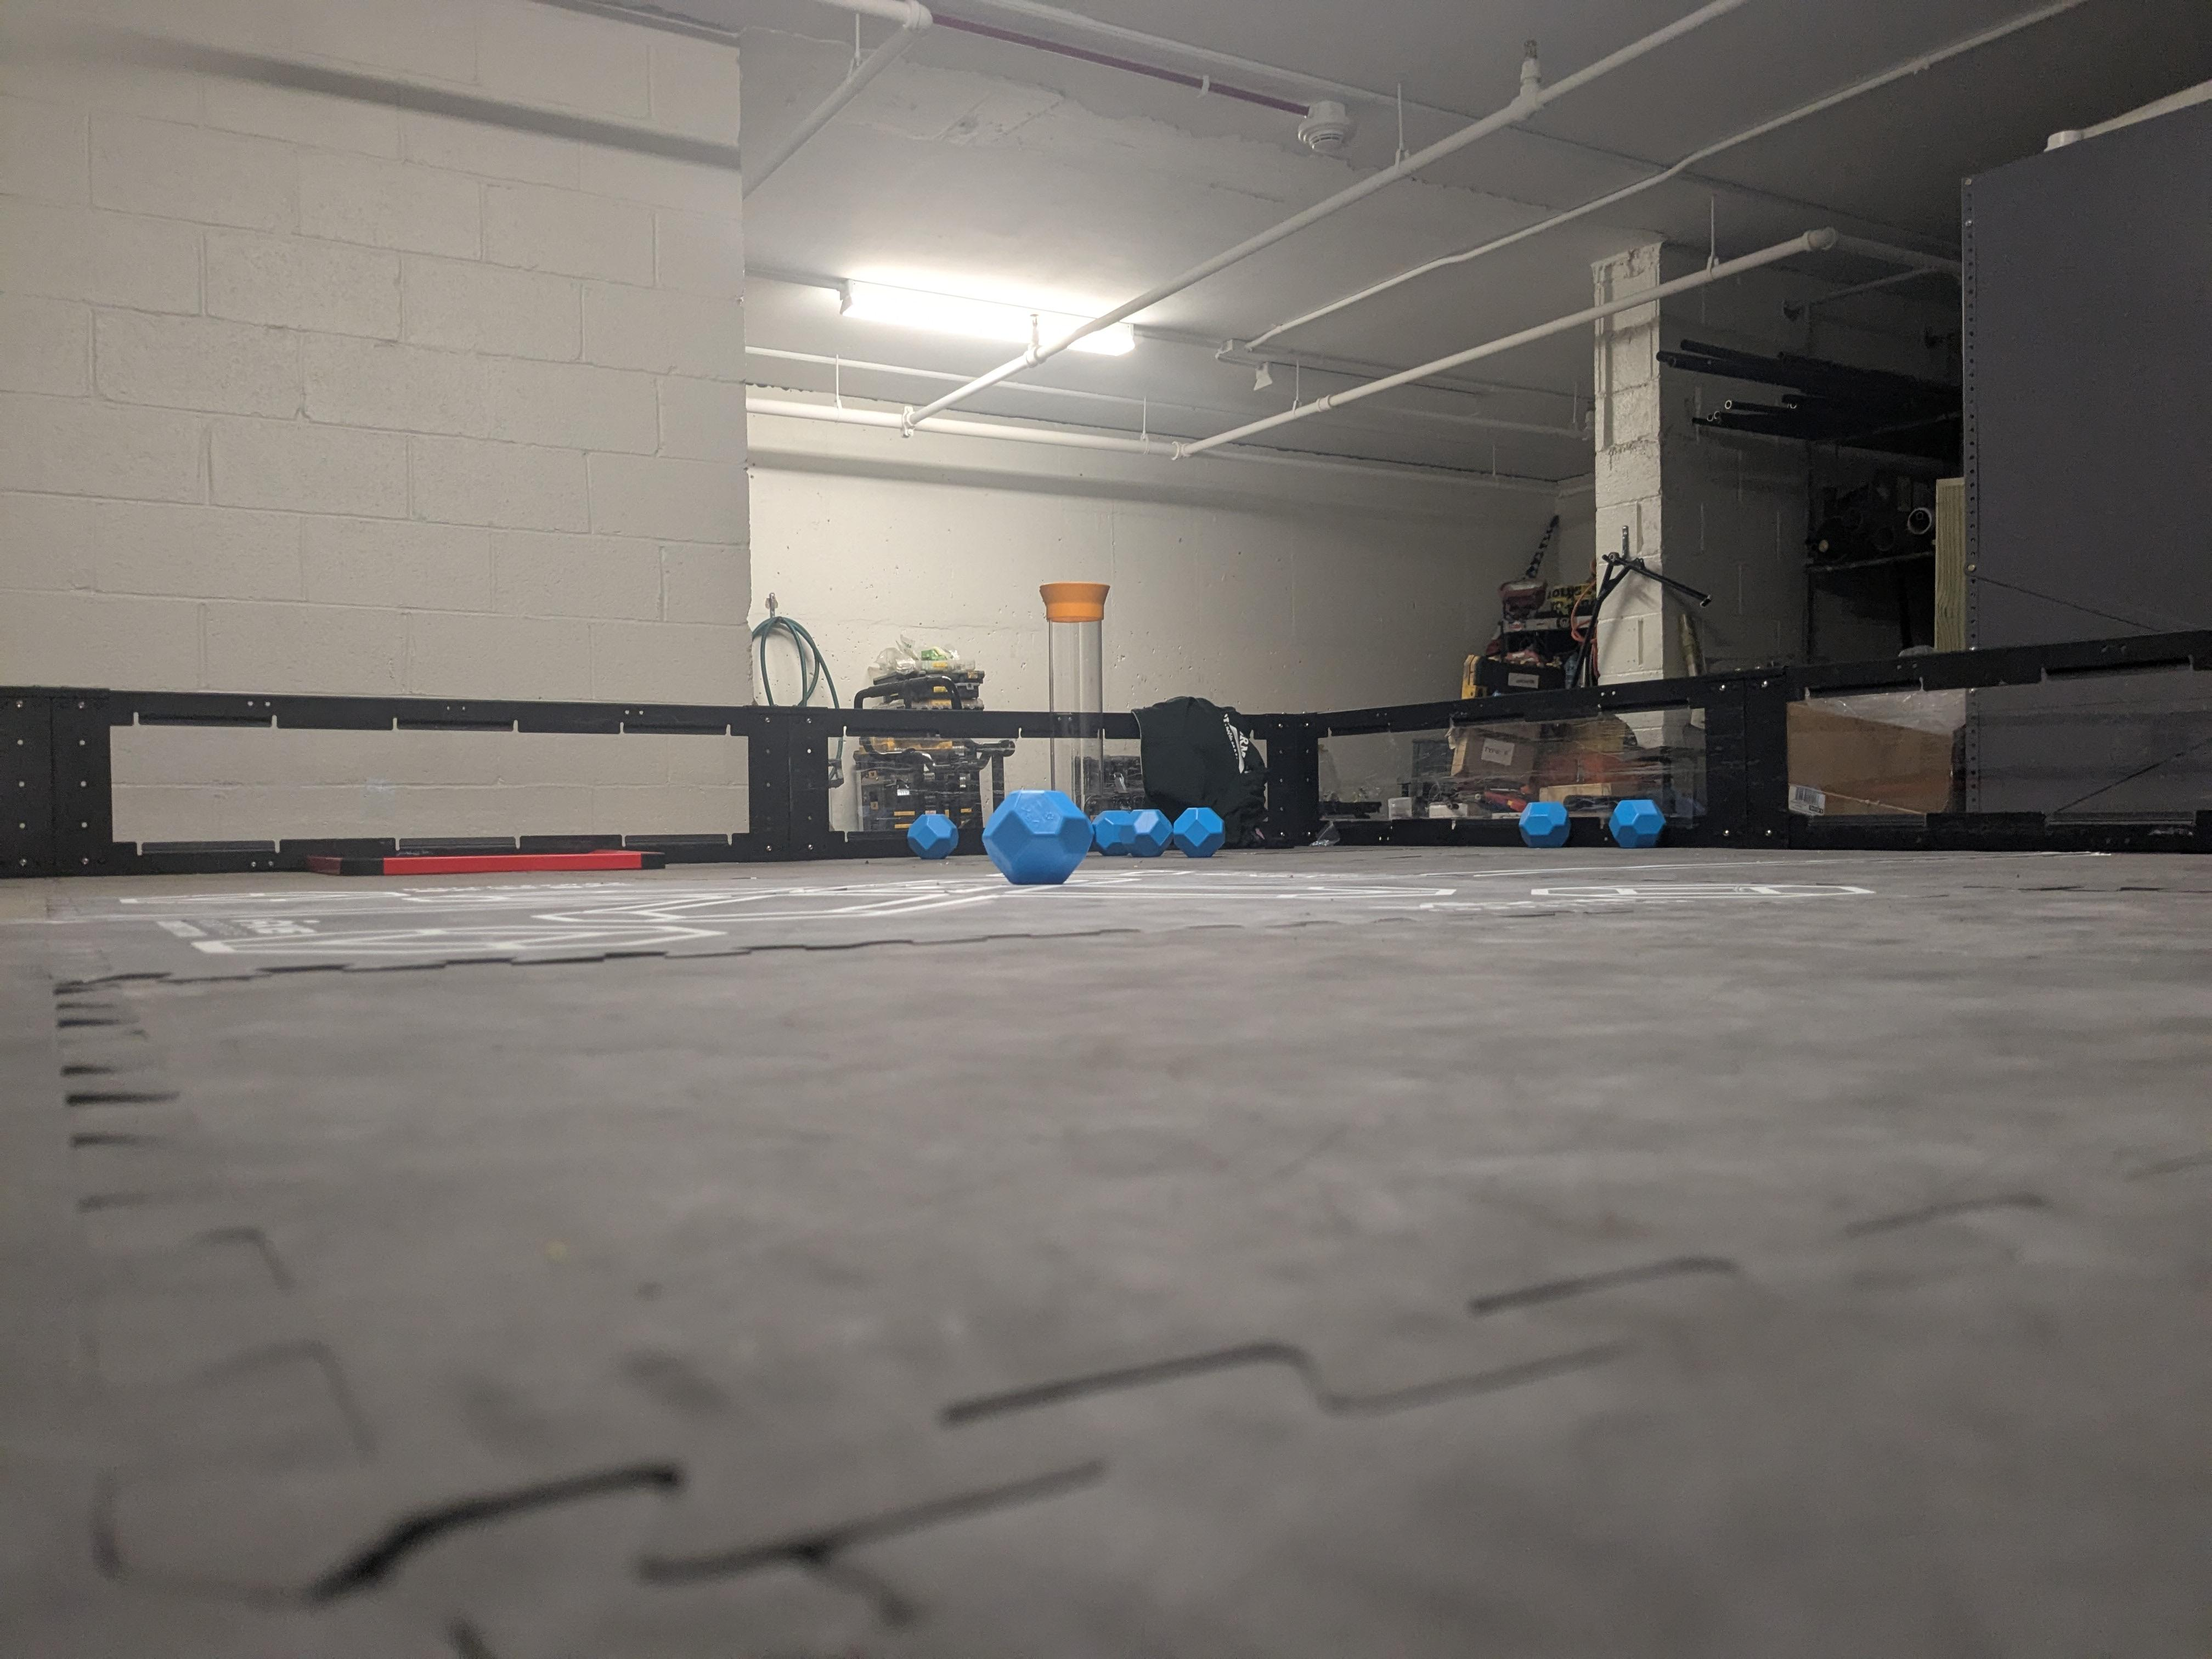Vex-Pieces-BLUE: (984, 789, 1090, 880), (1109, 809, 1174, 857), (1608, 798, 1665, 849), (1172, 807, 1224, 857), (907, 812, 958, 859), (1519, 802, 1568, 849), (1090, 810, 1141, 854)
